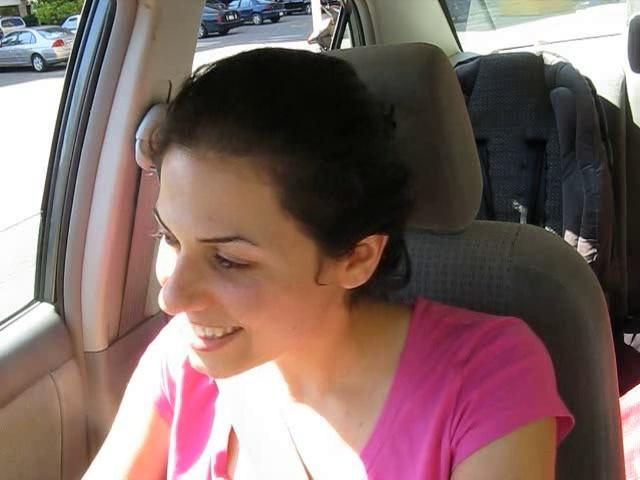close_eyeL: (140, 208, 189, 261)
close_eyeR: (195, 239, 279, 288)
no_yawn: (170, 310, 260, 368)
